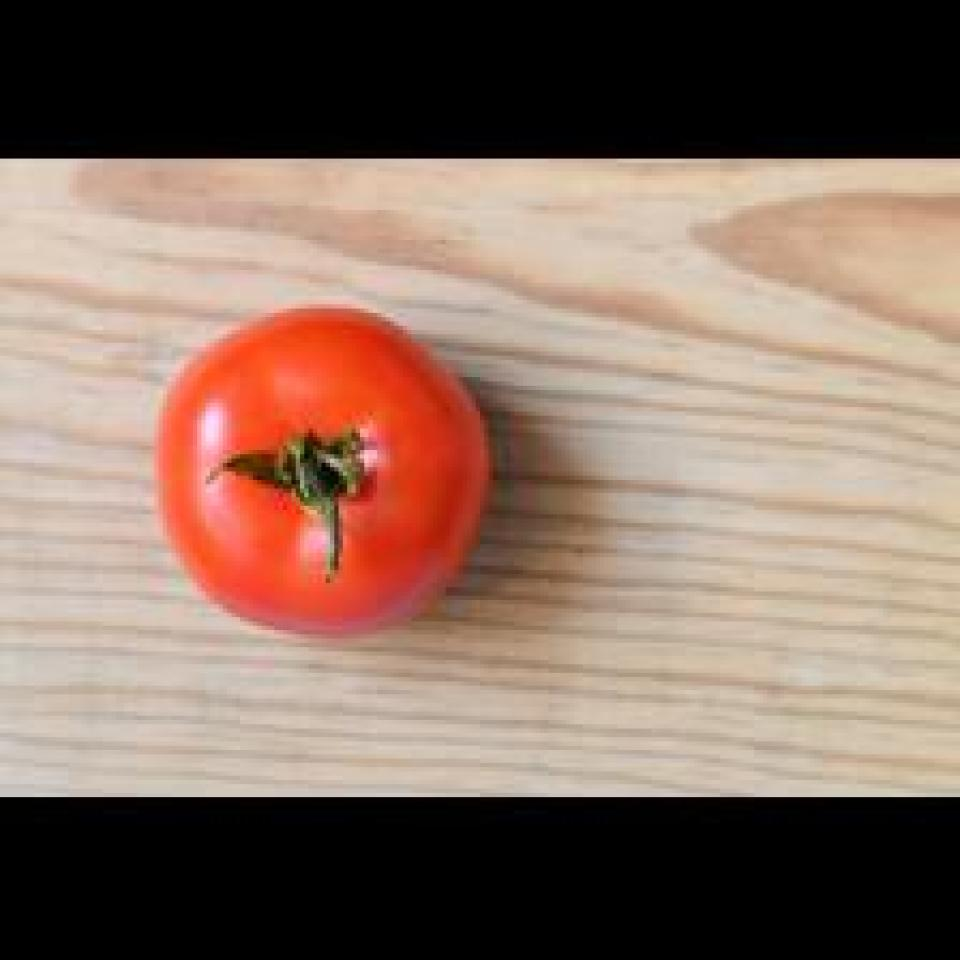Healthy: (145, 286, 499, 655)
